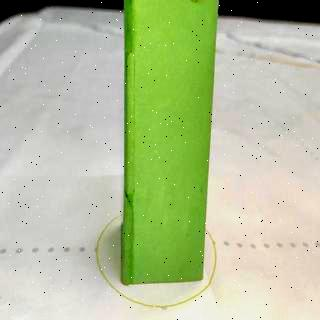greenbox: (123, 0, 225, 284)
